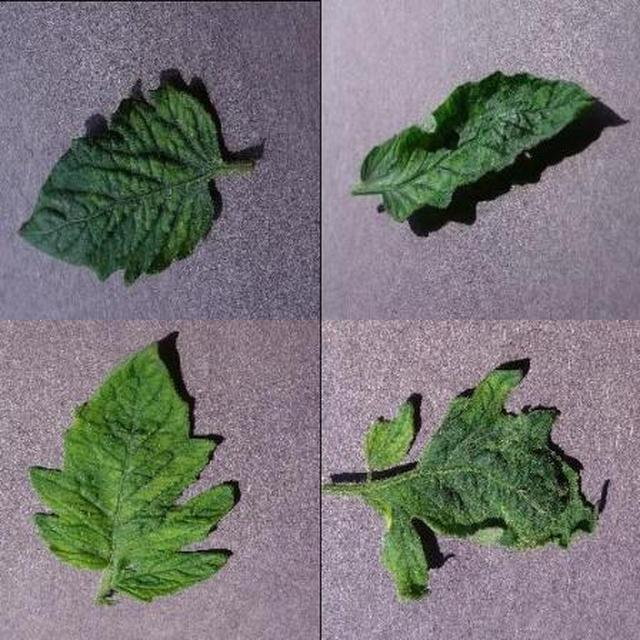Mosaic Virus Leaf: (169, 209, 640, 640)
